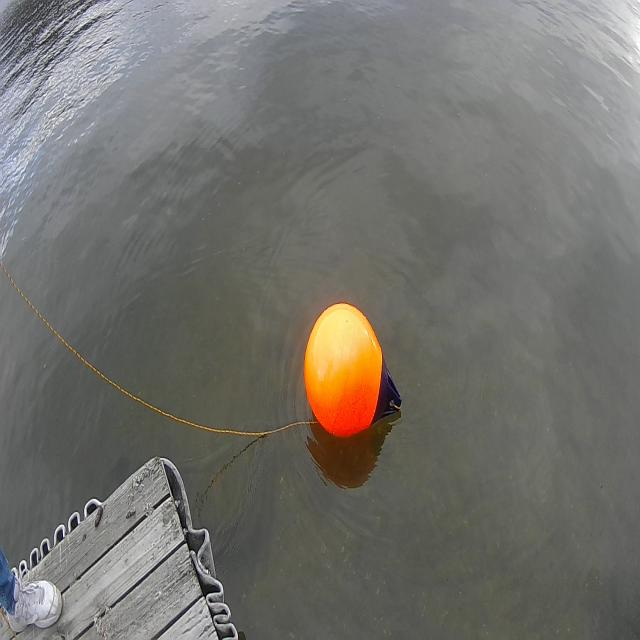Buoy: (300, 296, 402, 444)
